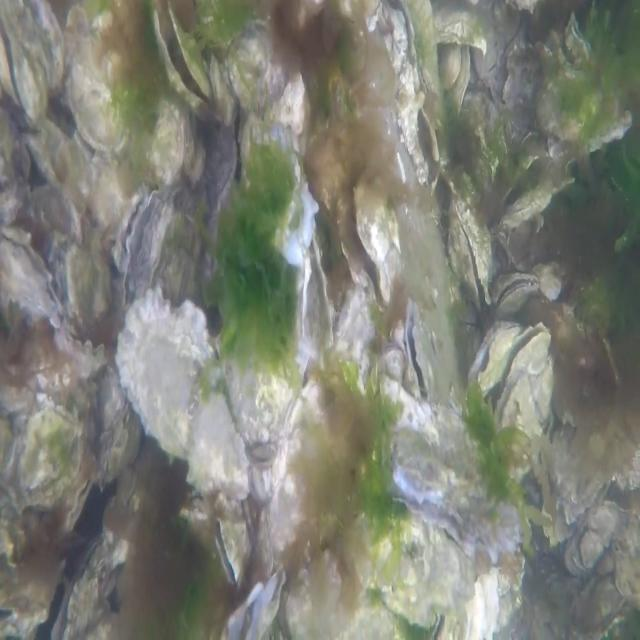Oyster-Closed: (66, 25, 134, 156), (502, 176, 574, 233), (57, 458, 103, 543), (405, 0, 441, 98), (55, 326, 109, 374), (382, 344, 407, 384)
Oyster-Indeterminate: (120, 293, 252, 504), (351, 516, 478, 630), (270, 380, 326, 553), (8, 406, 89, 504), (26, 123, 94, 225), (56, 241, 114, 342), (334, 288, 374, 387), (150, 106, 193, 194)
Oyster-Open: (234, 31, 318, 270), (388, 420, 524, 564), (376, 0, 441, 184), (49, 520, 138, 640), (152, 6, 222, 125), (338, 179, 401, 311), (545, 406, 610, 525), (1, 230, 68, 340), (0, 0, 56, 130), (494, 326, 552, 436), (449, 200, 498, 310), (219, 565, 288, 640), (301, 236, 336, 375), (112, 190, 158, 294), (468, 323, 522, 393), (404, 301, 437, 407), (214, 520, 251, 588), (496, 276, 538, 318)
